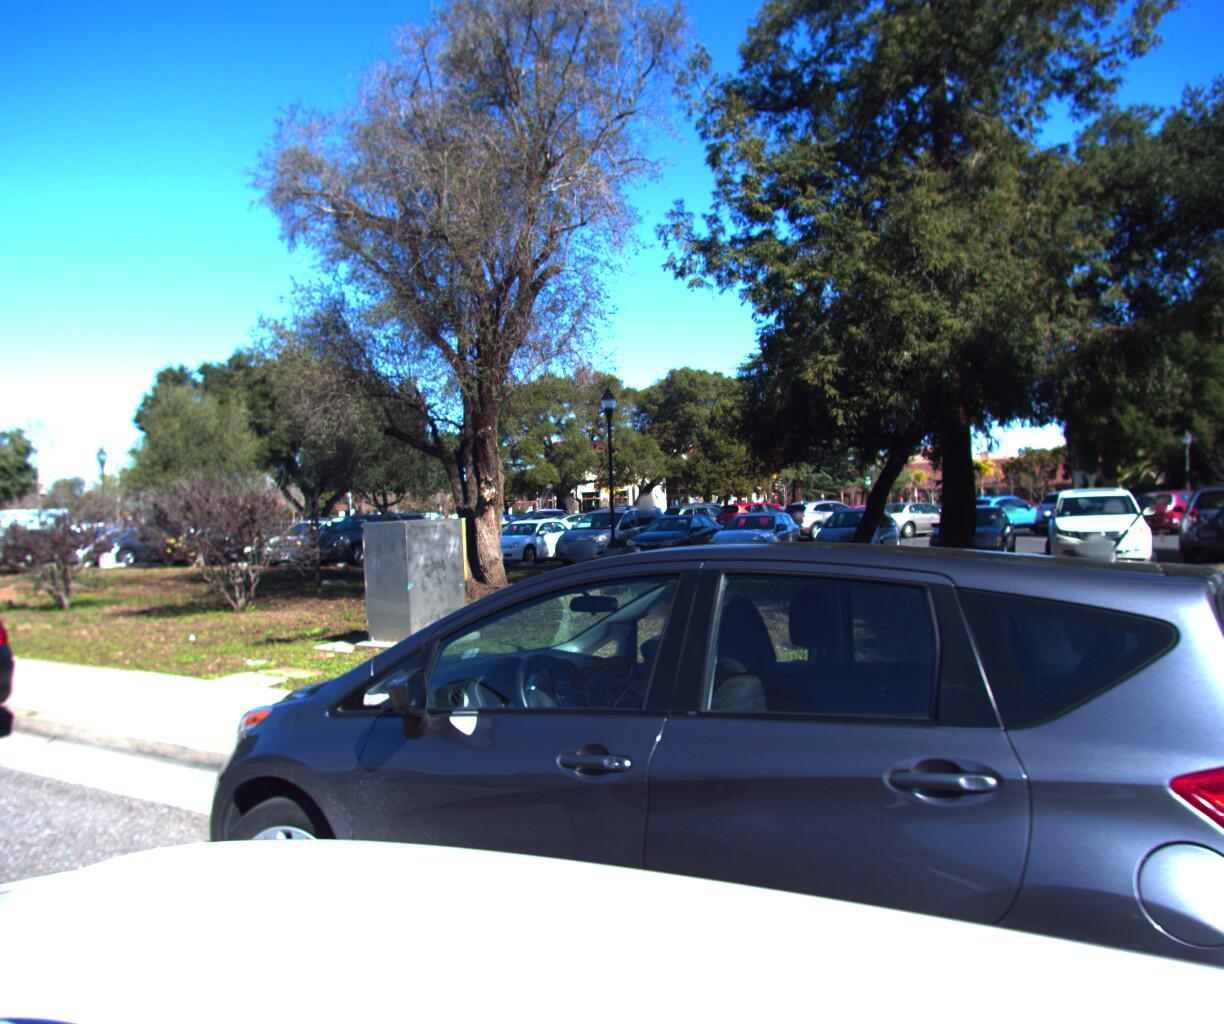car: (138, 508, 1224, 1024), (0, 546, 29, 828)
